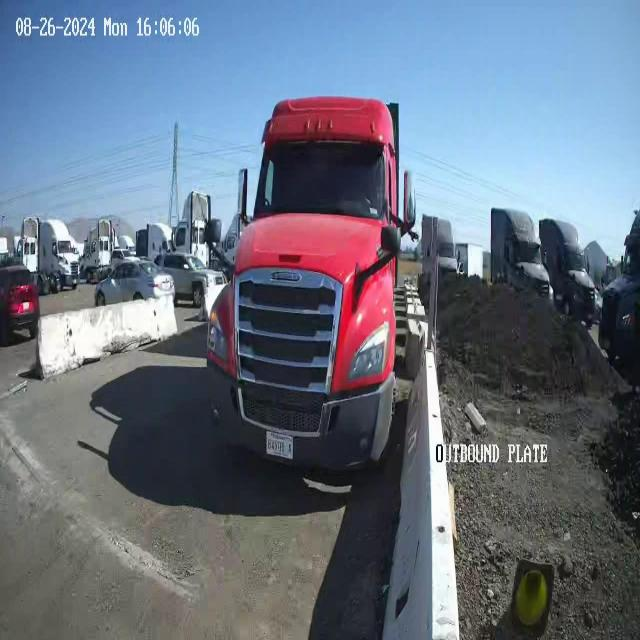TRUCK_OUT: (205, 95, 419, 476)
